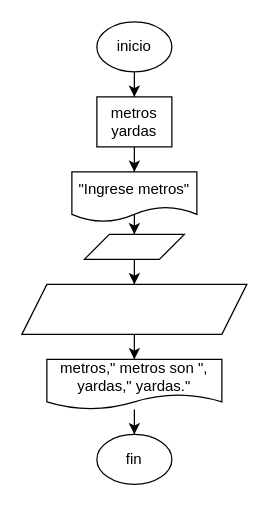
Image size: 269x506. Some labels were removed from this diagram. The shapes that lost their labels are listed below. From the top down, each one's centre as x and y in pixels, then its label:
At [133,246]: "metros".
At [134,308]: "yardas = metros*1.09361".
